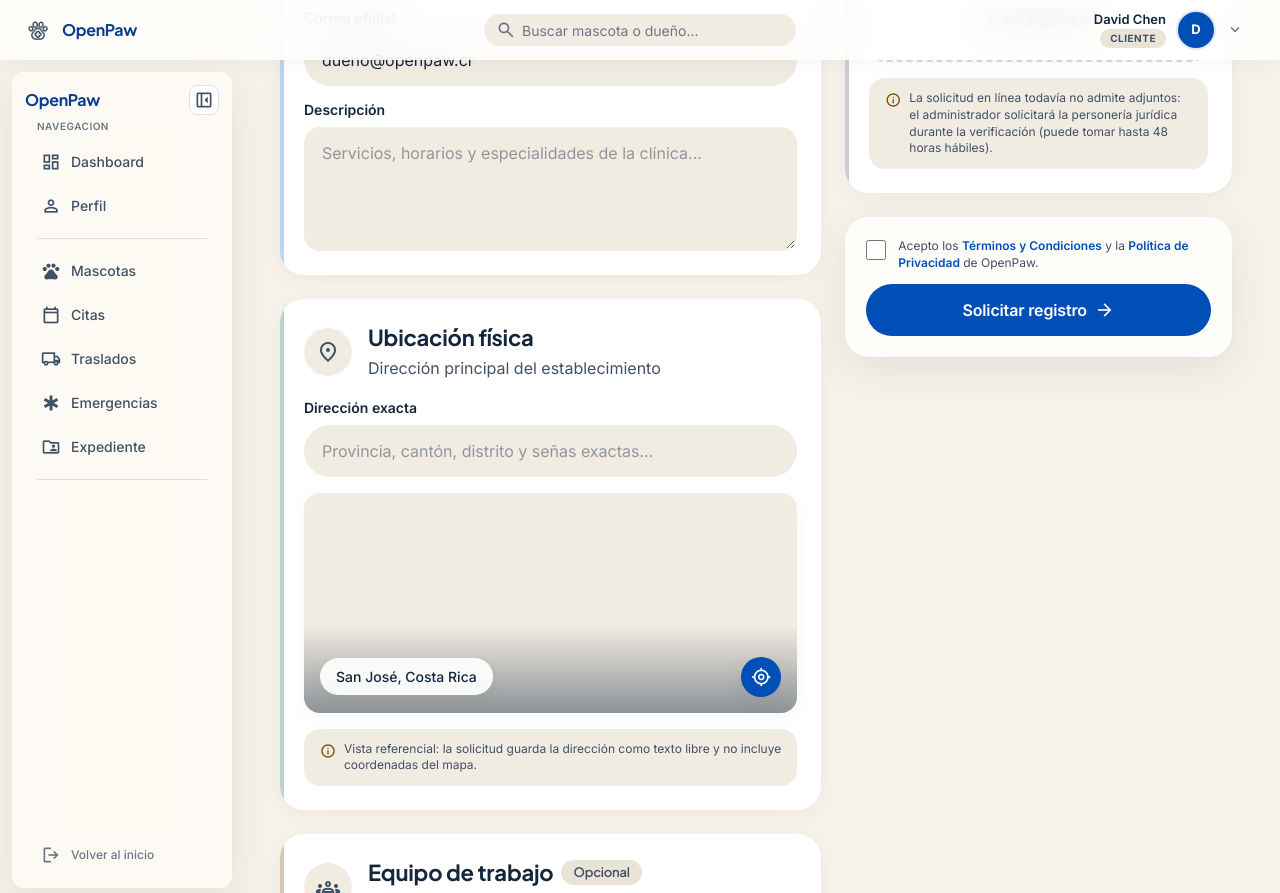
Test case: VeterinaryRegistrationPage (T37 — página única) › mapa referencial accesible y chip refleja la dirección tecleada
(page scrolled)
Expected: the picture named "Mapa referencial" is shown, x1=304 y1=493 x2=797 y2=713
Type "Barrio Tournón, San José" into the field labelled "Dirección exacta" at {"x": 551, "y": 451}, box x1=304 y1=425 x2=797 y2=477
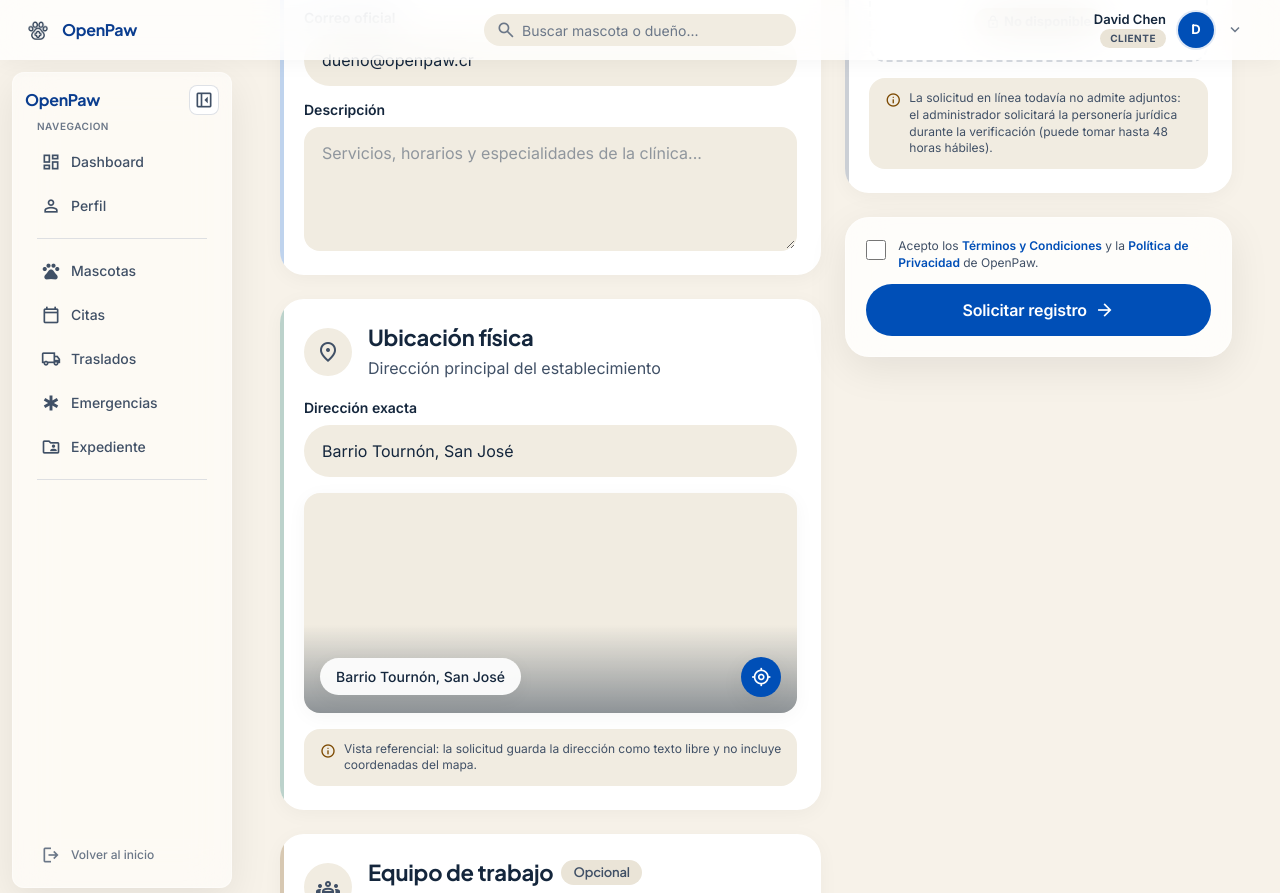
Now the text "Barrio Tournón, San José" is shown, box x1=320 y1=658 x2=521 y2=695
